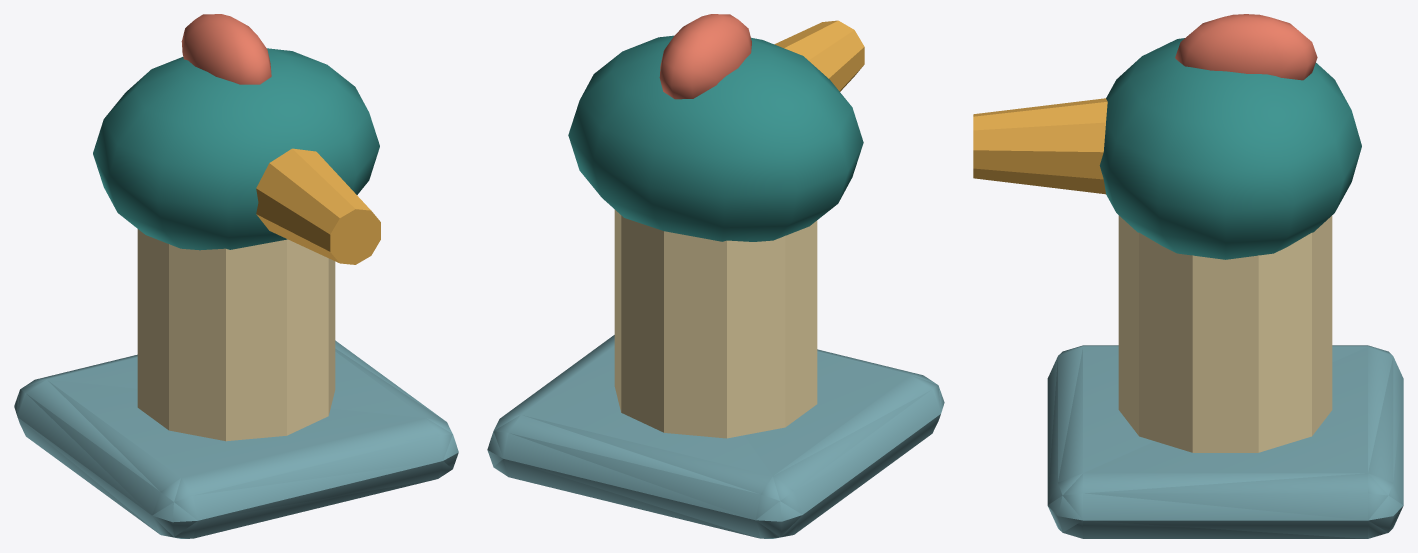
The model's file is DW_PeckTower.fbx.
3 views of the same model, side by side, from view 1: azimuth 30°, elevation 25°; view 2: azimuth 150°, elevation 25°; view 3: azimuth 270°, elevation 25° (orthographic). The views are drawn at different scales.
Parts seen in each view (by area): view 1: PeckTower; view 2: PeckTower; view 3: PeckTower.
Part boxes in pixels (bbox=[...]): PeckTower: bbox=[14, 14, 458, 538]; PeckTower: bbox=[487, 14, 944, 538]; PeckTower: bbox=[973, 14, 1403, 538].
Bounding box in the file's own units: 1.25 × 1.7 × 1.45.
